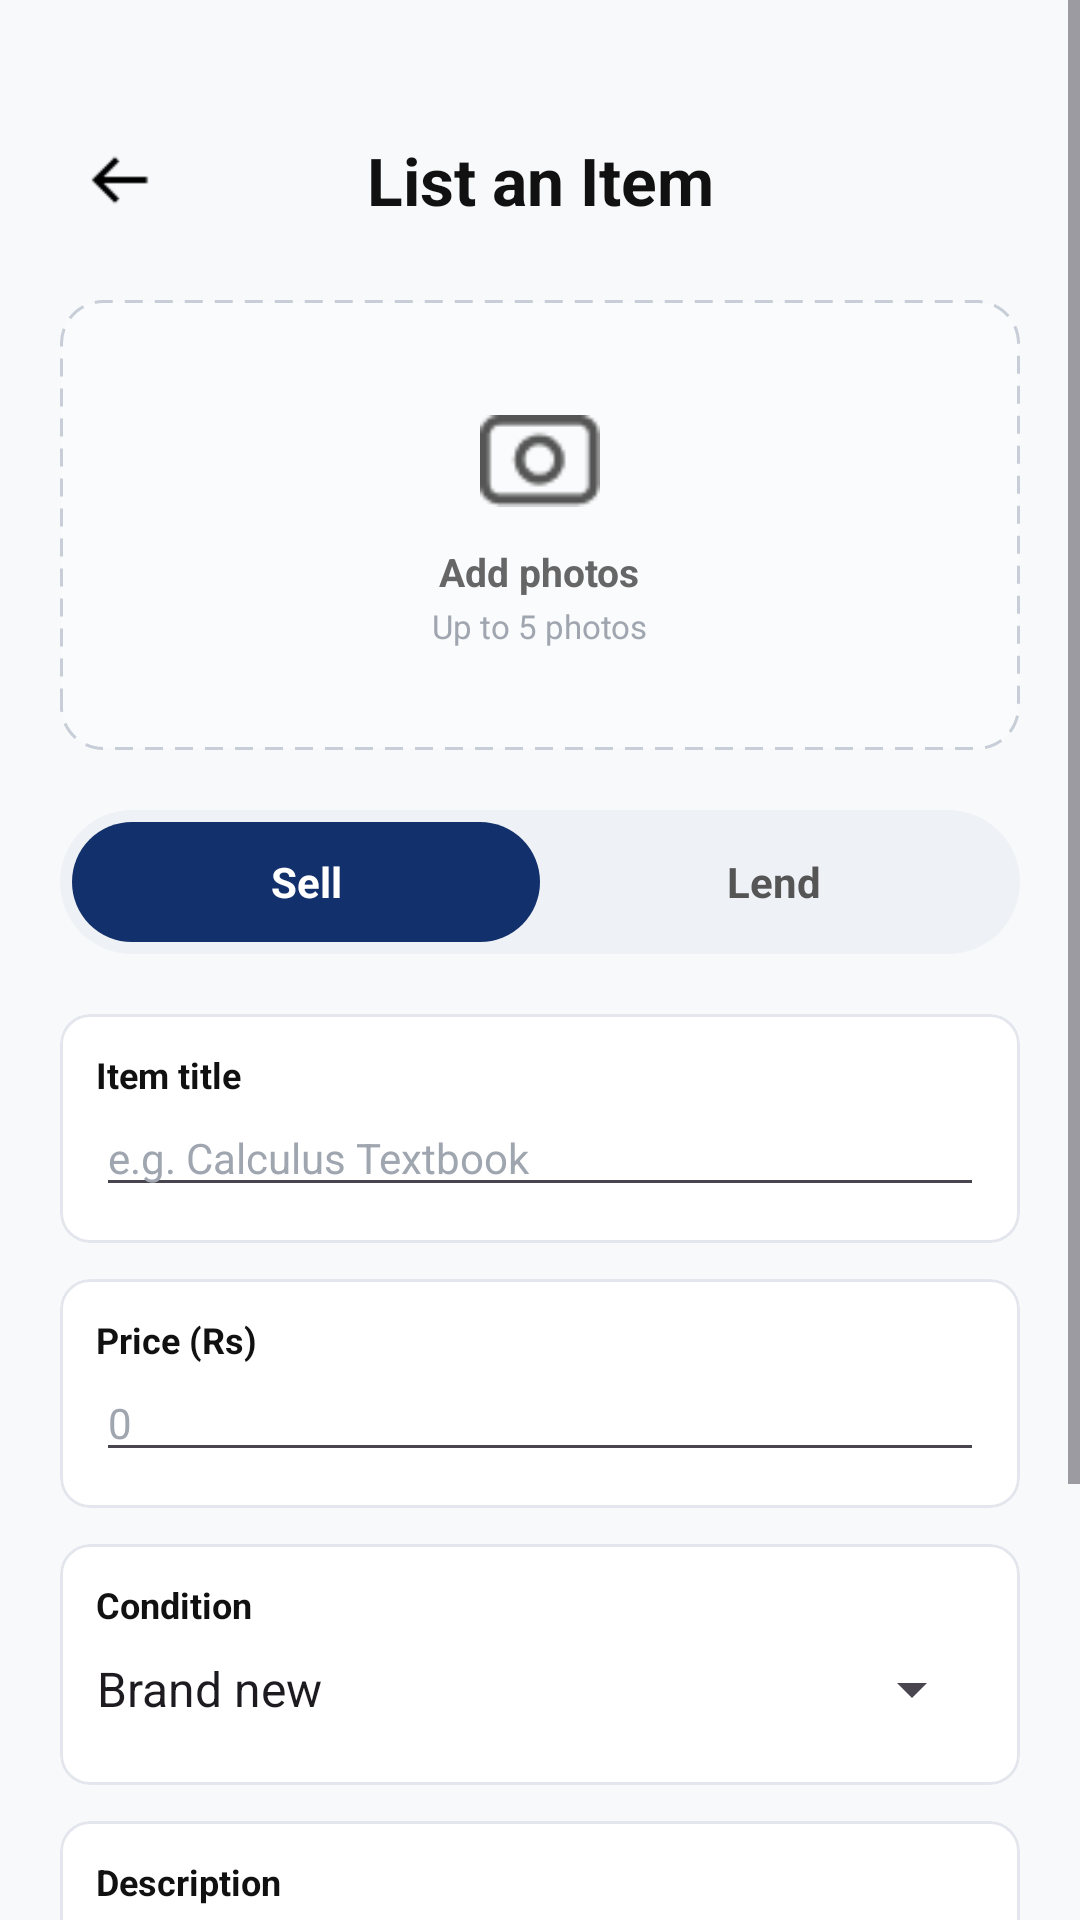

Named icons in this screenshot (1080px×1920px) and their bounding boxes, [x1,y1,x2,y2]:
Back: [91,156,148,204]
